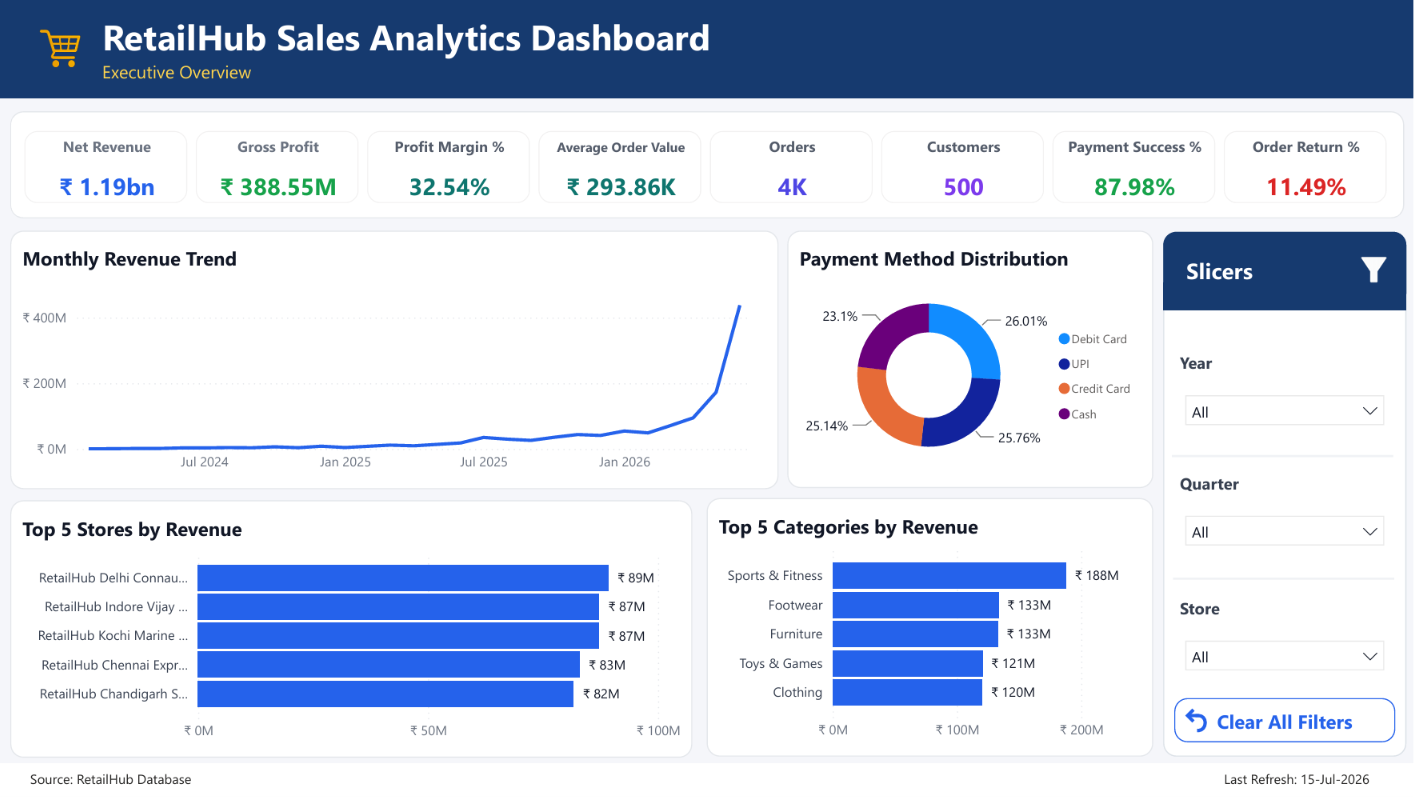

Layout of this report page (visuals, bound fields, positions):
{"tool":"powerbi","page":{"name":"Executive Overview","canvas":[1280,720],"ordinal":0},"visuals":[{"type":"shape","box":[1053.3,211.1,220,474.4],"z":0},{"type":"textbox","box":[0,0,1280,90],"z":2000},{"type":"image","box":[35,25,41.2,41.2],"z":3000},{"type":"slicer","title":"Year","fields":{"Values":["Date.Year"]},"box":[1063,311.1,200,85.6],"z":4000},{"type":"slicer","title":"Quarter","fields":{"Values":["Date.Quarter"]},"box":[1063,420,200,85.6],"z":5000},{"type":"lineChart","title":"Monthly Revenue Trend","fields":{"Y":["📊 Measures.Allocated Net Revenue"],"Category":["Date.Date.Variation.Date Hierarchy.Year","Date.Date.Variation.Date Hierarchy.Month"]},"box":[10,210,695,233.6],"z":6000},{"type":"slicer","title":"Store","fields":{"Values":["stores.Store_Name"]},"box":[1063.3,533.3,200,85.6],"z":7000},{"type":"barChart","title":"Top 5 Categories by Revenue","fields":{"Category":["categories.Category_Name"],"Y":["📊 Measures.Allocated Net Revenue"]},"box":[640,452.2,404.4,233.3],"z":8000},{"type":"barChart","title":"Top 5 Stores by Revenue","fields":{"Category":["stores.Store_Name"],"Y":["📊 Measures.Allocated Net Revenue"]},"box":[10,454.4,616.7,232.2],"z":9000},{"type":"donutChart","title":"Payment Method Distribution","fields":{"Category":["payments.Payment_Method"],"Y":["📊 Measures.Successful Payments"]},"box":[713.3,210,331.1,233.3],"z":10000},{"type":"cardVisual","title":"Net Revenue","fields":{"Data":["📊 Measures.Allocated Net Revenue","📊 Measures.Gross Profit","📊 Measures.Profit Margin %","📊 Measures.Average Order Value","📊 Measures.Completed Orders","📊 Measures.Completed Customers","📊 Measures.Payment Success %","📊 Measures.Return Rate %"]},"box":[10,102,1260.7,96.5],"z":11000},{"type":"actionButton","box":[1063.3,633.3,200,40],"z":12000},{"type":"shape","box":[0,692,1280,28],"z":13000},{"type":"textbox","box":[22.7,692,164,28],"z":14000},{"type":"textbox","box":[1103.3,692,154,28],"z":15000},{"type":"shape","box":[1062.2,516.7,200,16.7],"z":16000},{"type":"shape","box":[1061.1,405.6,200,16.7],"z":17000},{"type":"shape","box":[1053.3,257,220,25],"z":18000},{"type":"shape","title":"Slicers","box":[1053.3,211.1,220,67.8],"z":19000},{"type":"image","box":[1228.6,233.6,29.3,23.6],"z":20000}]}

Visuals, with their boxes in screenshot pixels (x1, y1, x2, y2), scaled from the page's 1280x720 canvas onto the 1414x797 screenshot:
shape: BBox(1164, 234, 1407, 759)
textbox: BBox(0, 0, 1413, 100)
image: BBox(39, 28, 84, 73)
"Year" slicer: BBox(1174, 344, 1395, 439)
"Quarter" slicer: BBox(1174, 465, 1395, 560)
"Monthly Revenue Trend" lineChart: BBox(11, 232, 779, 491)
"Store" slicer: BBox(1175, 590, 1396, 685)
"Top 5 Categories by Revenue" barChart: BBox(707, 501, 1154, 759)
"Top 5 Stores by Revenue" barChart: BBox(11, 503, 692, 760)
"Payment Method Distribution" donutChart: BBox(788, 232, 1154, 491)
"Net Revenue" cardVisual: BBox(11, 113, 1404, 220)
actionButton: BBox(1175, 701, 1396, 745)
shape: BBox(0, 766, 1413, 796)
textbox: BBox(25, 766, 206, 796)
textbox: BBox(1219, 766, 1389, 796)
shape: BBox(1173, 572, 1394, 590)
shape: BBox(1172, 449, 1393, 467)
shape: BBox(1164, 284, 1407, 312)
"Slicers" shape: BBox(1164, 234, 1407, 309)
image: BBox(1357, 259, 1390, 285)
